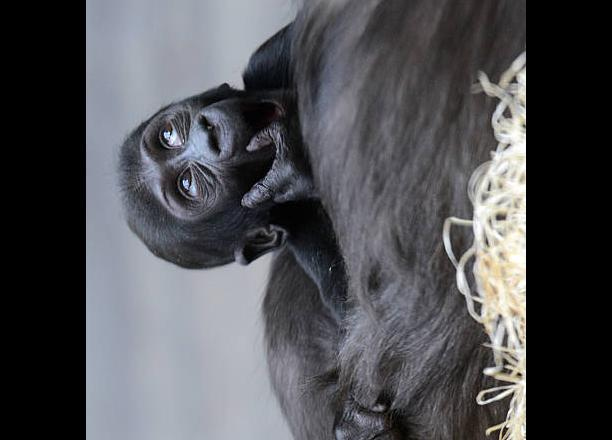gorille_Autres: (86, 21, 348, 324)
